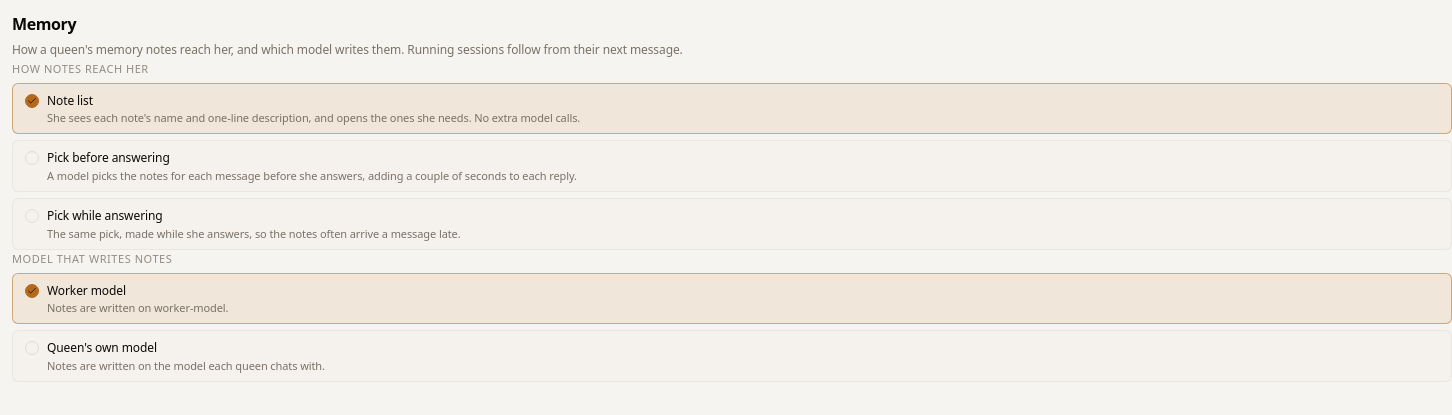
Test: MemorySettingsSection › puts the choice back and says why when saving fails
Click the radio button labelled "Pick before answering": (108, 158) [25,149,1439,183]
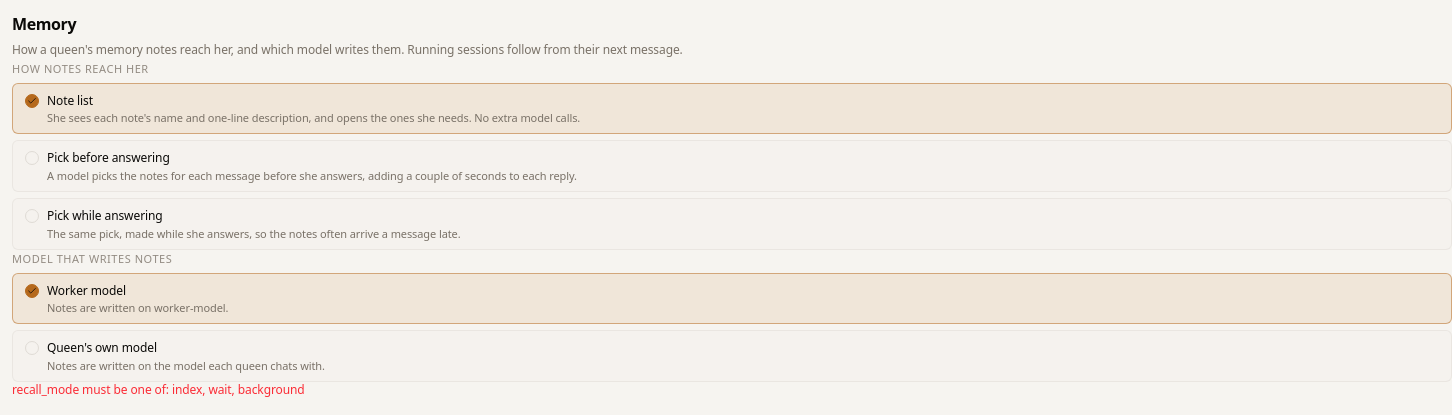
Now the text "recall_mode must be one of: index, wait, background" is shown, box [12,381,305,398]
